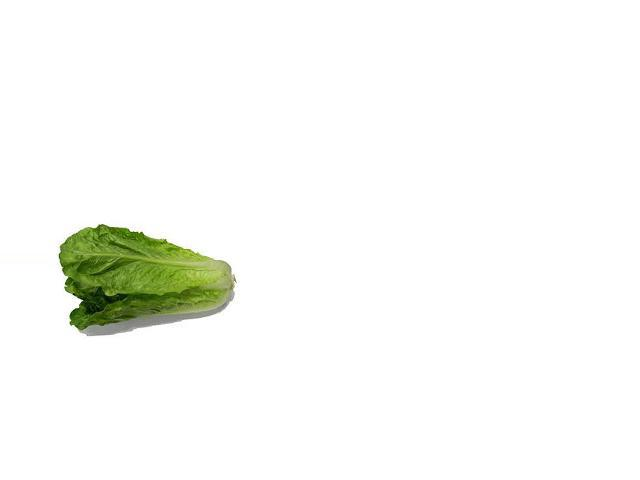lettuce: (68, 225, 235, 329)
